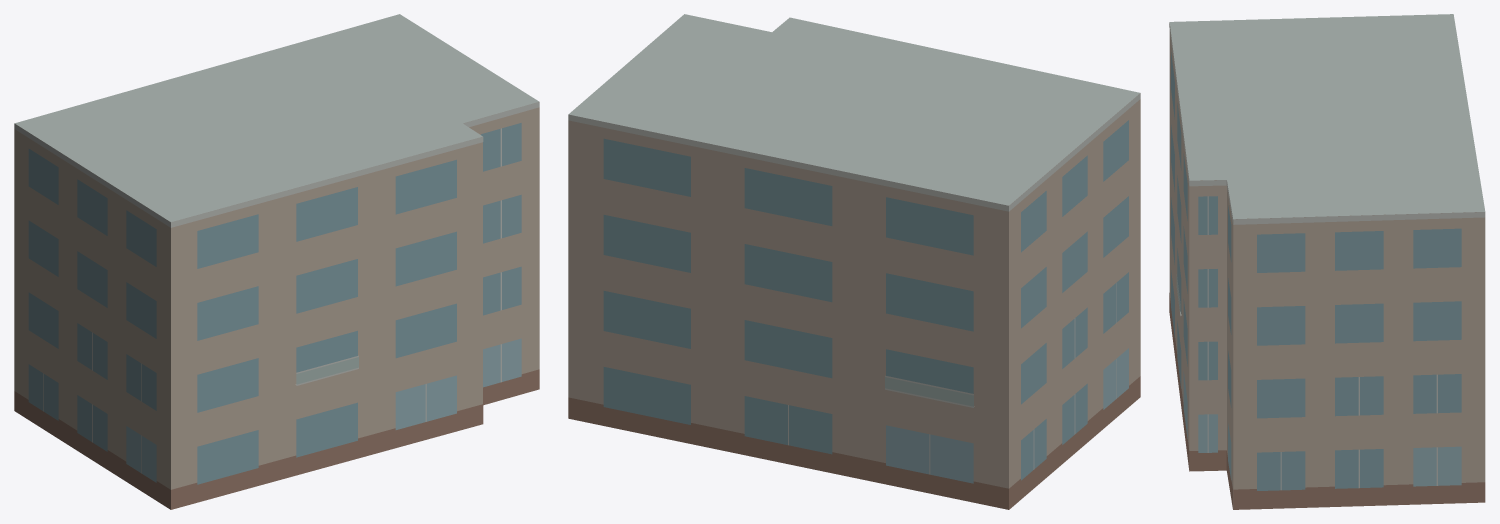
File: survey-upis-32745649.glb
3 views of the same model, side by side, from view 1: azimuth 30°, elevation 25°; view 2: azimuth 150°, elevation 25°; view 3: azimuth 270°, elevation 25° (orthographic). The views are drawn at different scales.
Visible parts, largest first — view 1: survey-upis-32745649.tmp; view 2: survey-upis-32745649.tmp; view 3: survey-upis-32745649.tmp.
Boxes of the visible parts, left/top/right/bottom form: survey-upis-32745649.tmp: left=14, top=14, right=539, bottom=509; survey-upis-32745649.tmp: left=568, top=14, right=1140, bottom=509; survey-upis-32745649.tmp: left=1169, top=14, right=1485, bottom=509.
Bounding box in the file's own units: 19.01 × 12.55 × 12.37.
